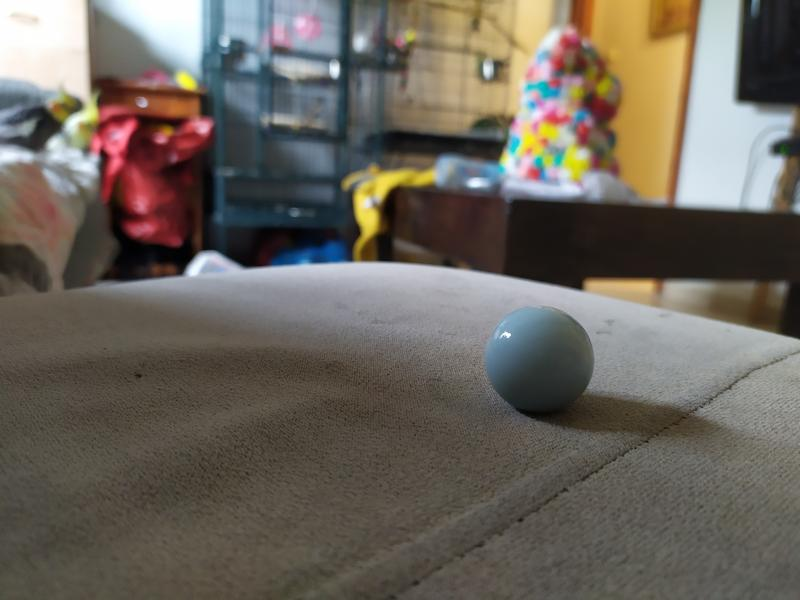Warning: (481, 303, 597, 417)
